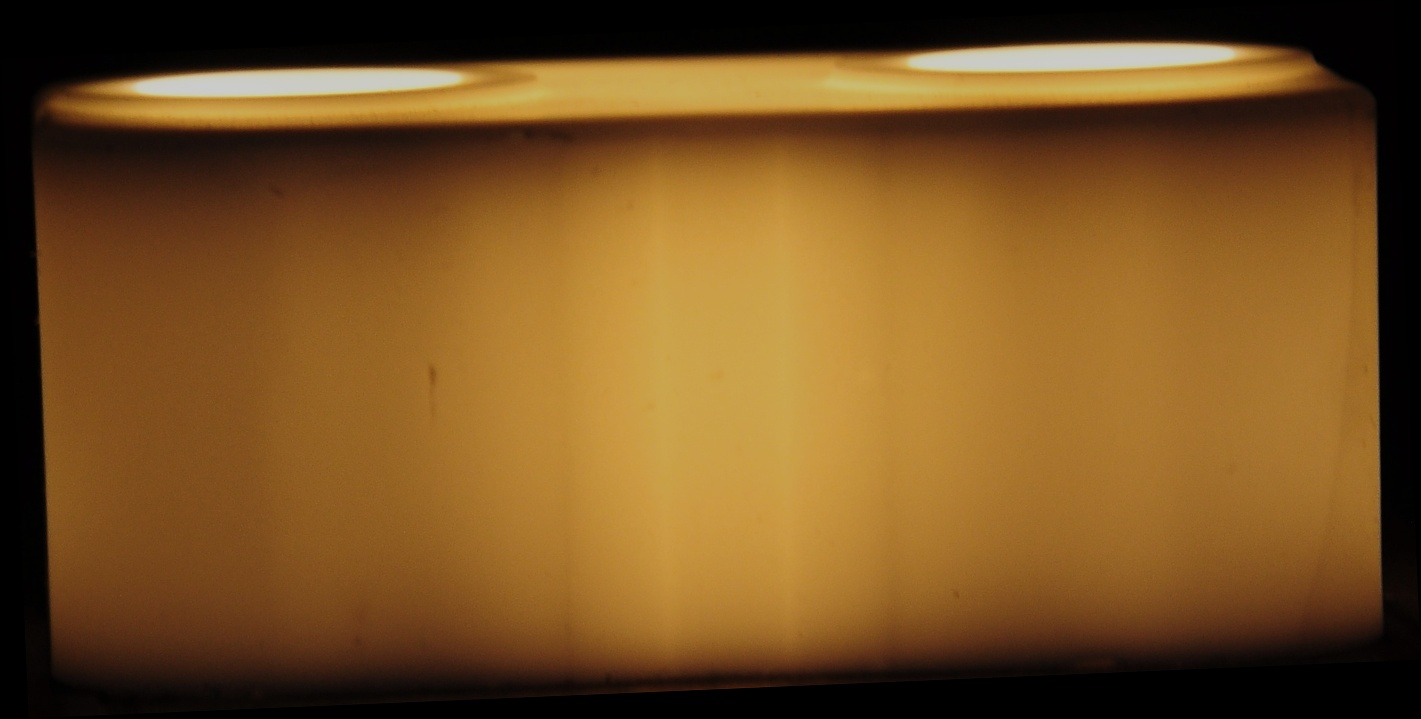flaw: (1252, 96, 1373, 644)
